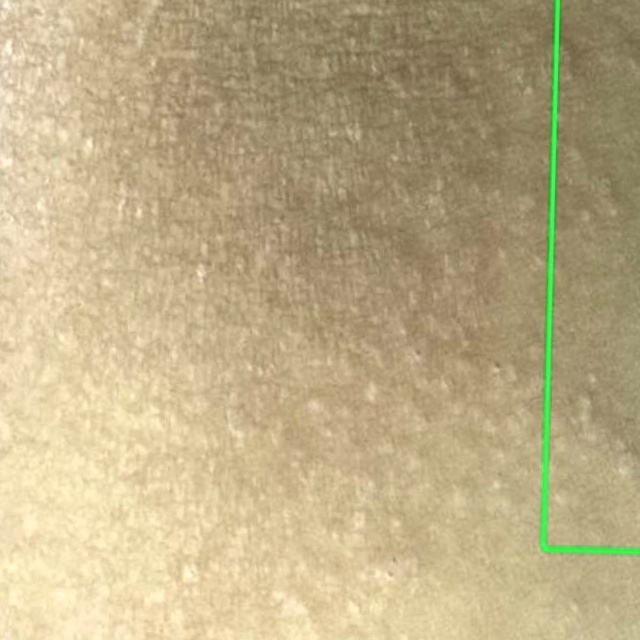Contact Dermatitis: (542, 0, 639, 552)
